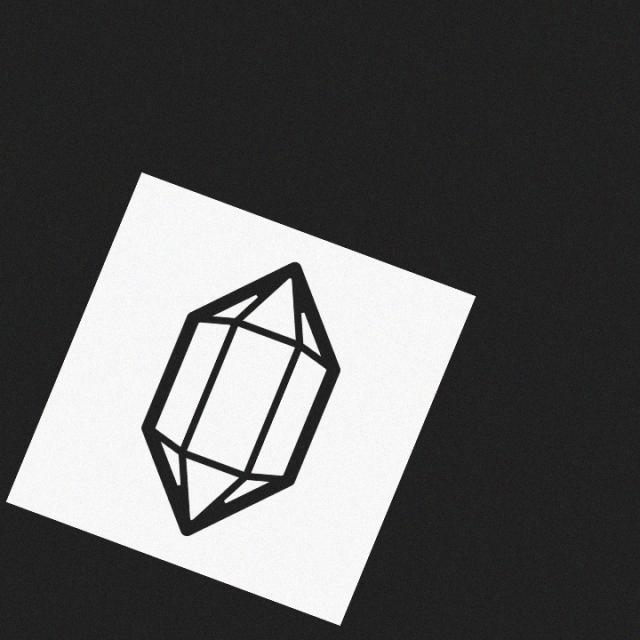crystal: (136, 257, 349, 545)
